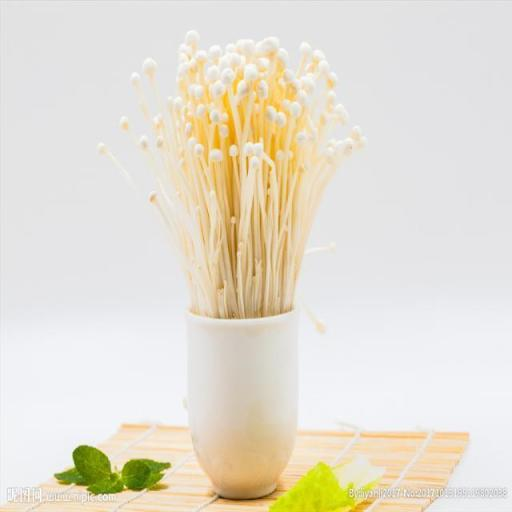Enoki Mushroom: (96, 32, 366, 315)
